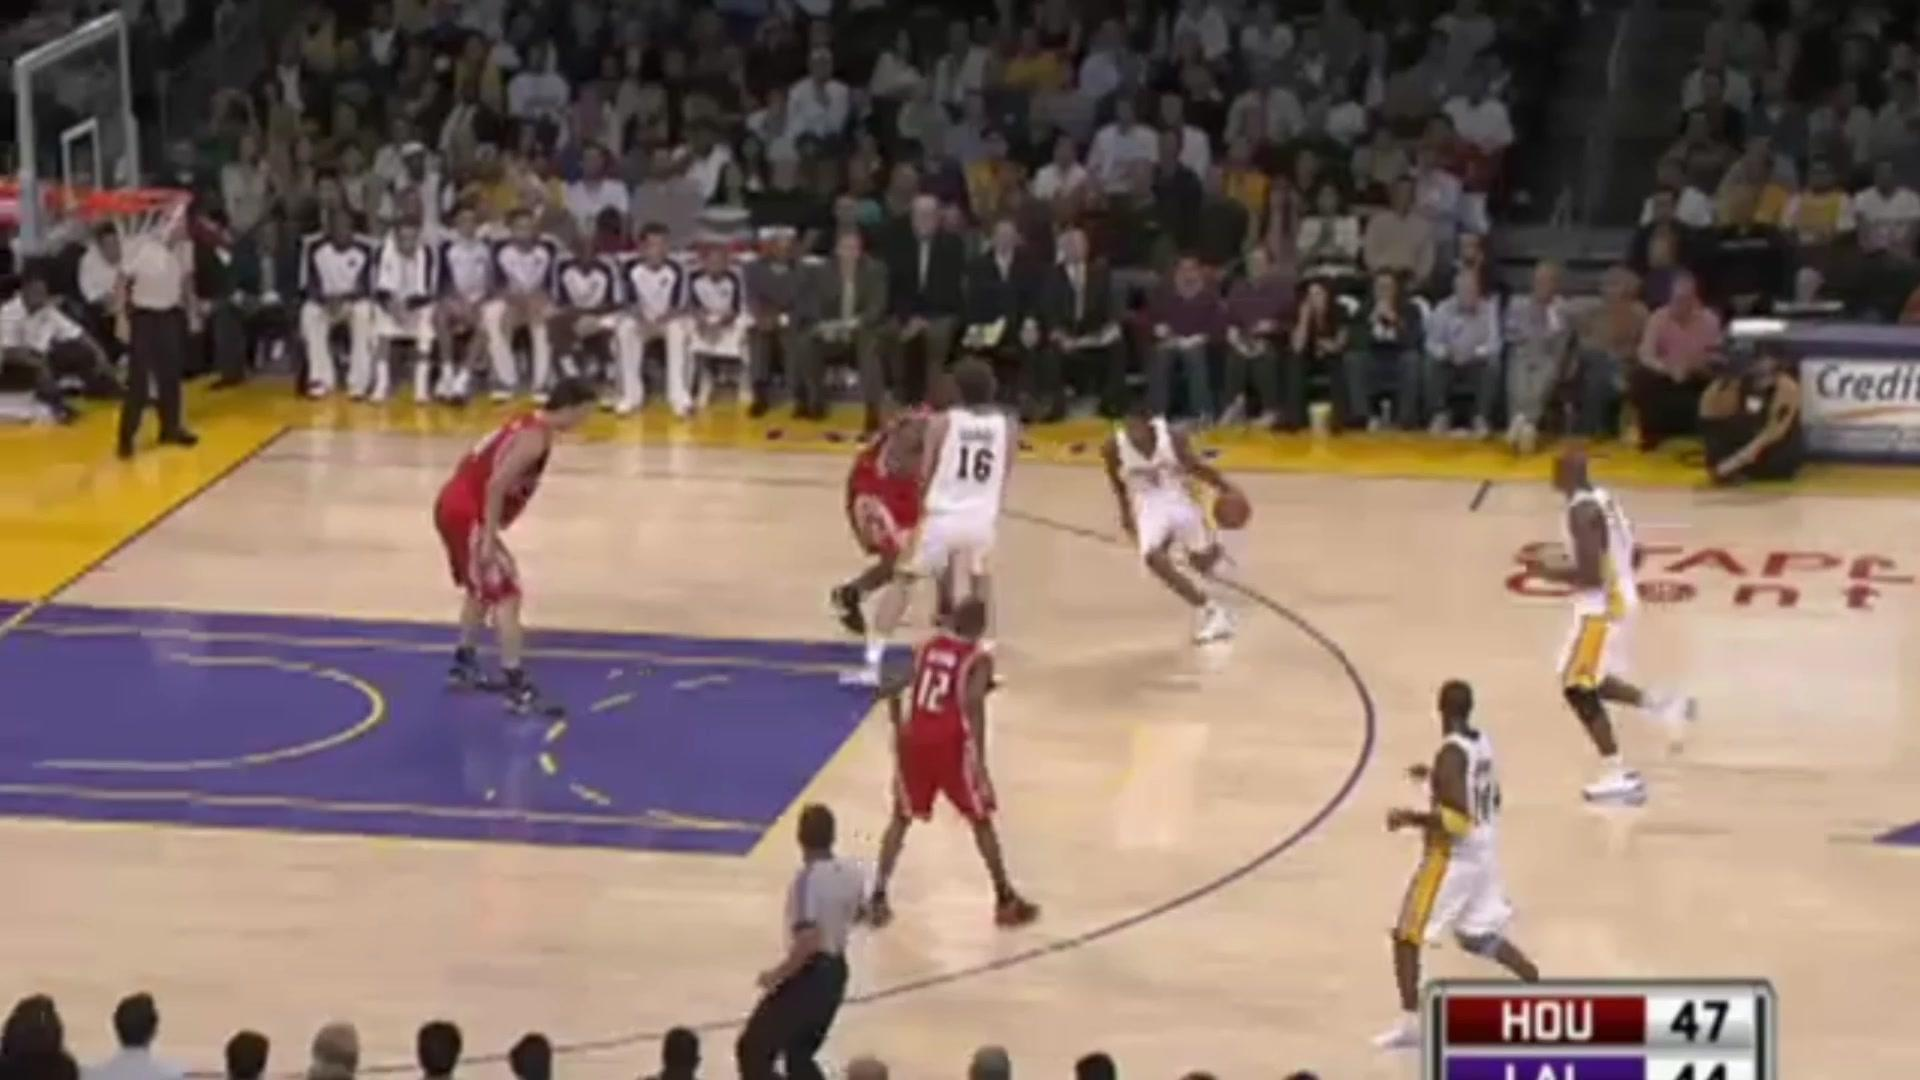no_foul: (870, 367, 1011, 600)
